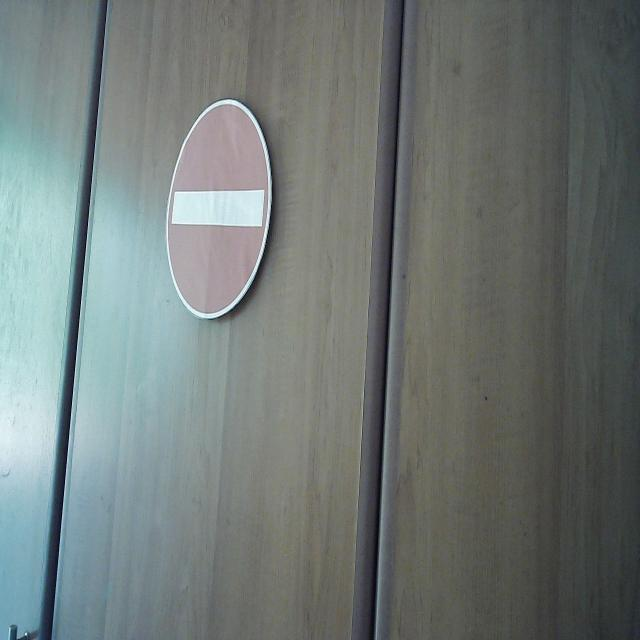no_entry: (164, 97, 276, 320)
